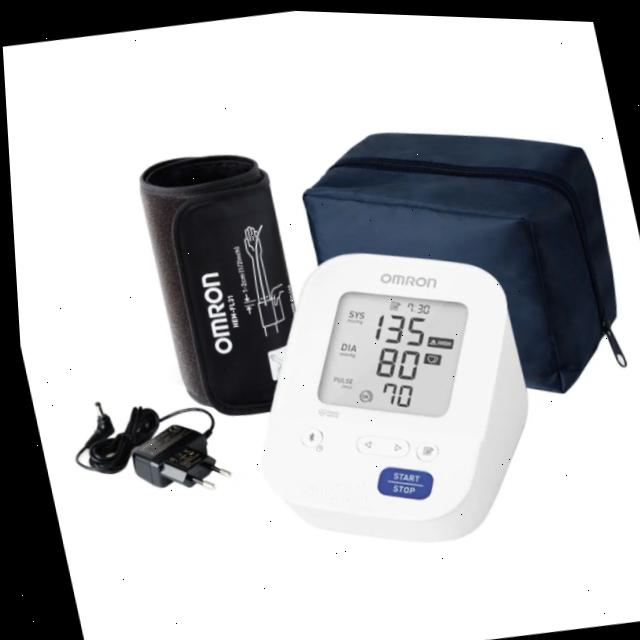dia: (359, 339, 425, 386)
pul: (363, 372, 418, 411)
ssd: (312, 275, 465, 424)
sys: (361, 306, 428, 348)
